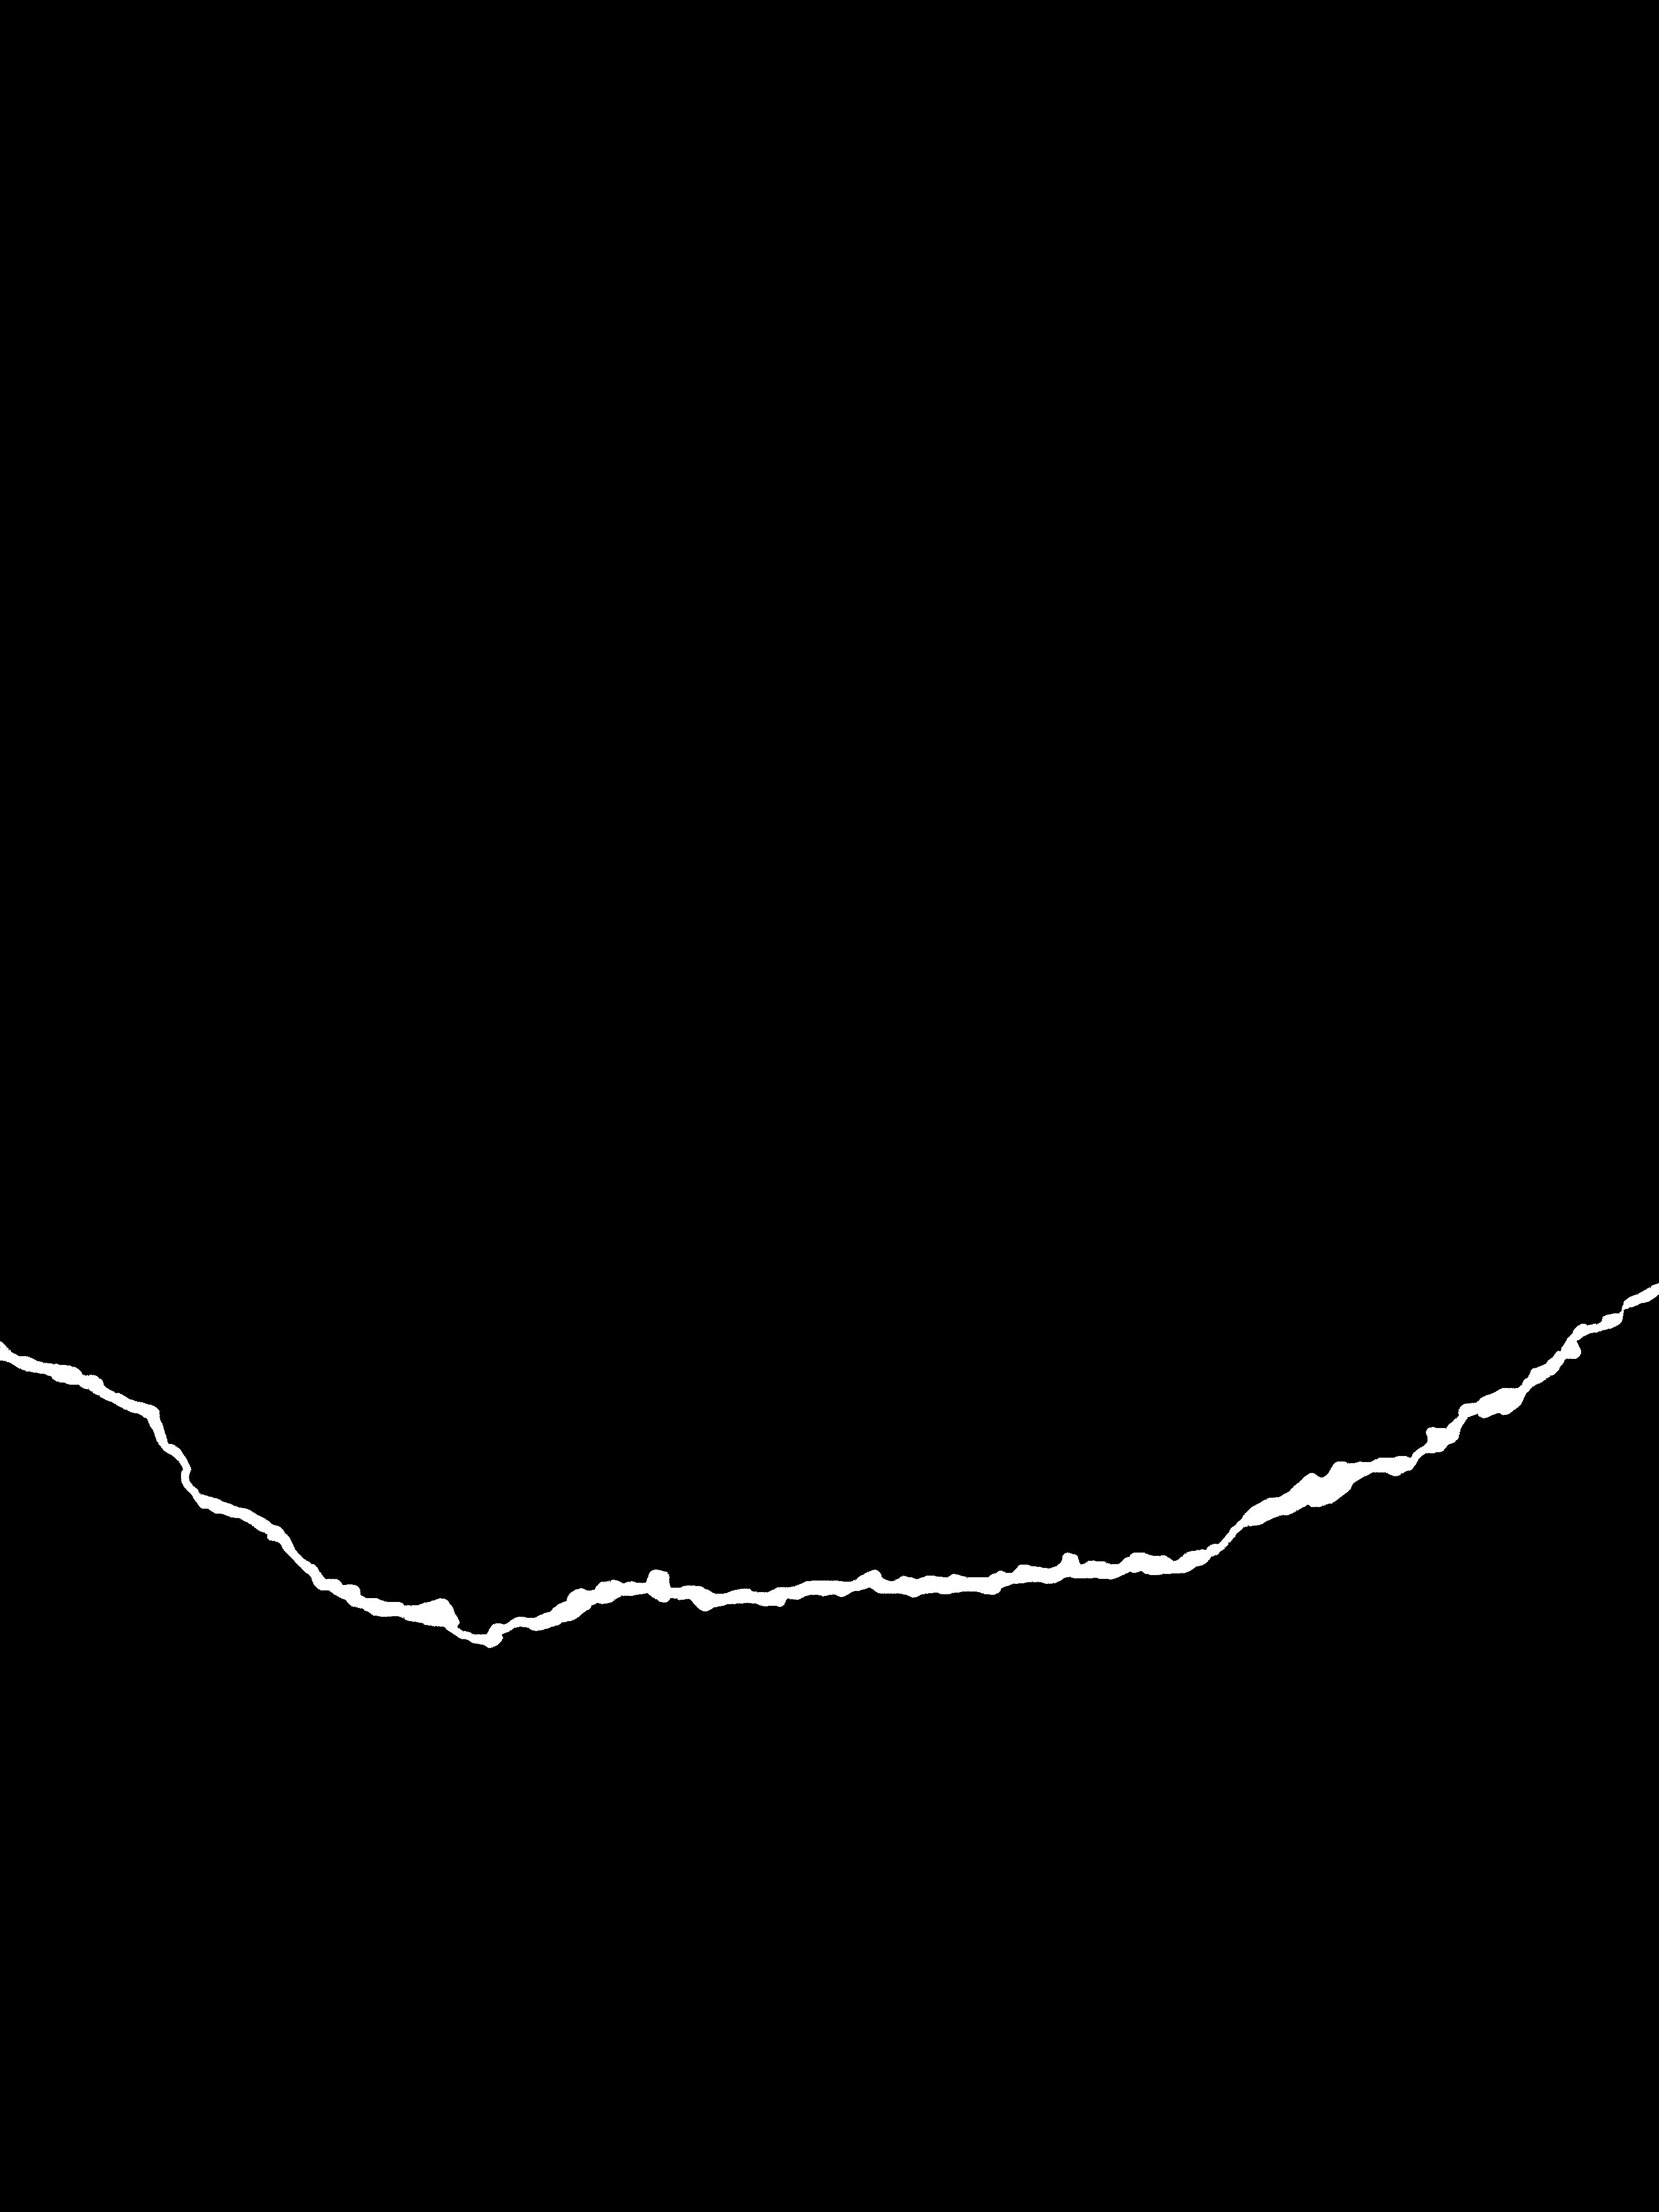Crack: (0, 1263, 1659, 1655)
